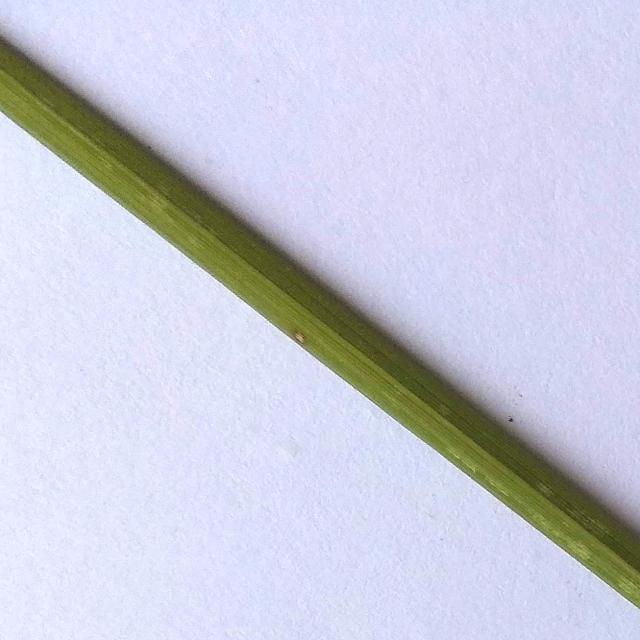Blast: (290, 328, 307, 344)
